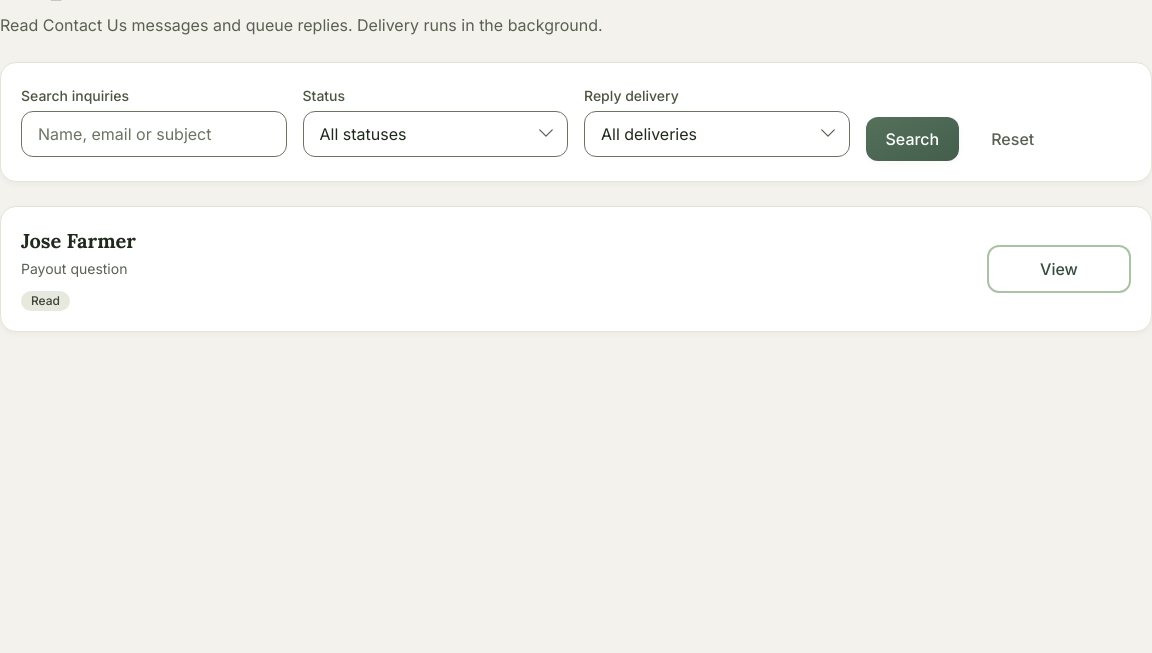
Test: AdminInquiriesPage.vue › disables close and retry while a reply is live sending
The width and height of the screenshot is (1152, 653).
Click the button "View" at {"x": 1059, "y": 269}, box x1=987 y1=245 x2=1131 y2=293
(page scrolled)
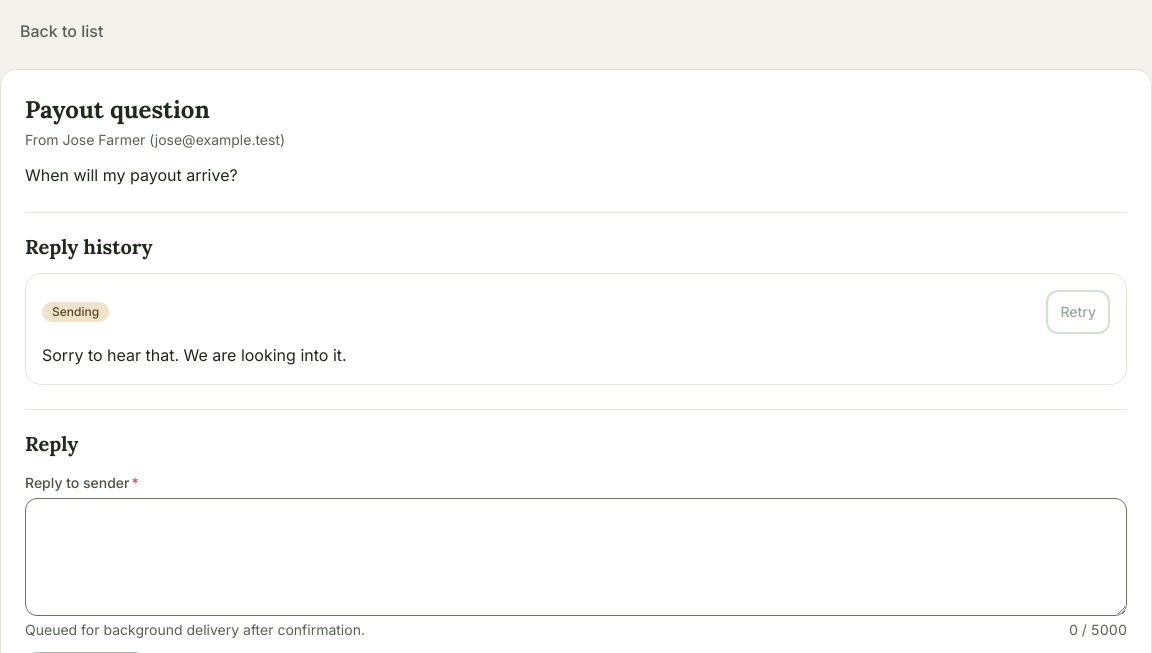
Check: the element with test id "admin-inquiry-detail" shows "Sending", box x1=52 y1=304 x2=99 y2=319
Check: the button with aria-label "Retry delivery of reply 13" is disabled, box x1=1046 y1=290 x2=1110 y2=334
